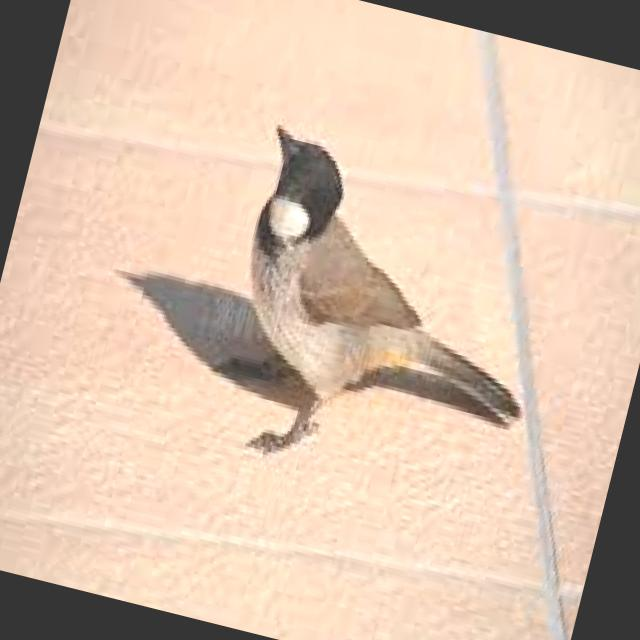bird: (192, 120, 574, 516)
